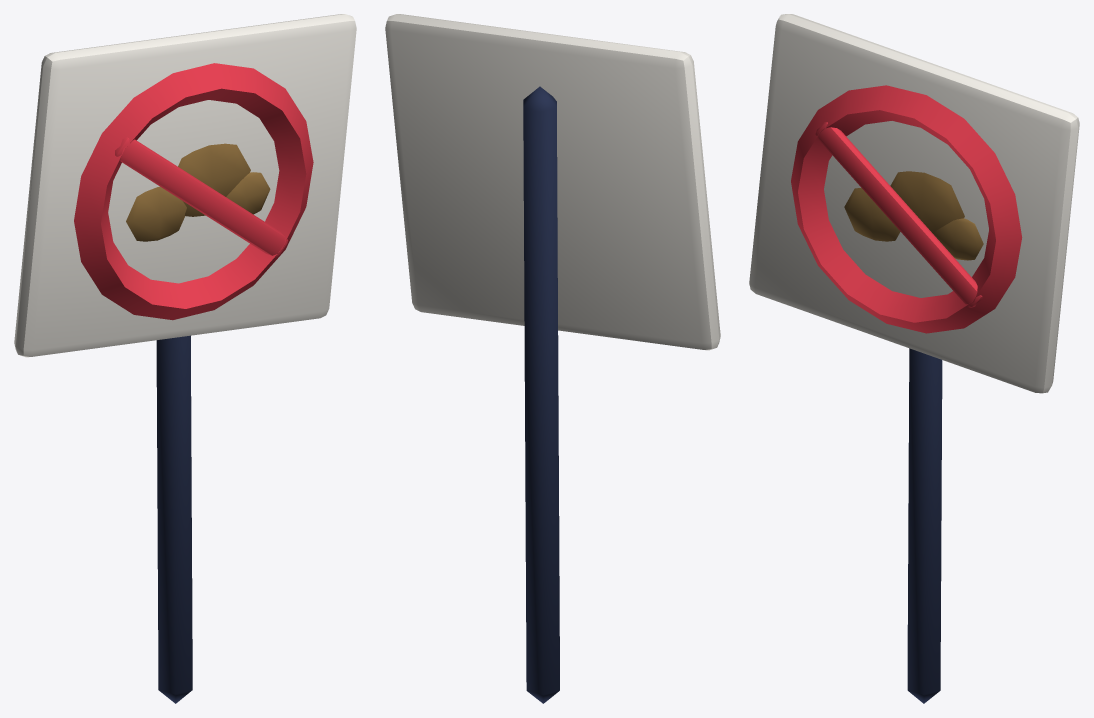
File: W1_Sign_A.fbx
3 views of the same model, side by side, from view 1: azimuth 30°, elevation 25°; view 2: azimuth 150°, elevation 25°; view 3: azimuth 330°, elevation 25° (orthographic). The views are drawn at different scales.
Visible parts, largest first — view 1: W1_Sign_A; view 2: W1_Sign_A; view 3: W1_Sign_A.
Boxes of the visible parts, x1,y1,x2,y2 form: W1_Sign_A: [14, 14, 356, 703]; W1_Sign_A: [385, 14, 720, 703]; W1_Sign_A: [749, 14, 1079, 703].
Size of the model in its own units: 1.19 by 2.31 by 0.242.
